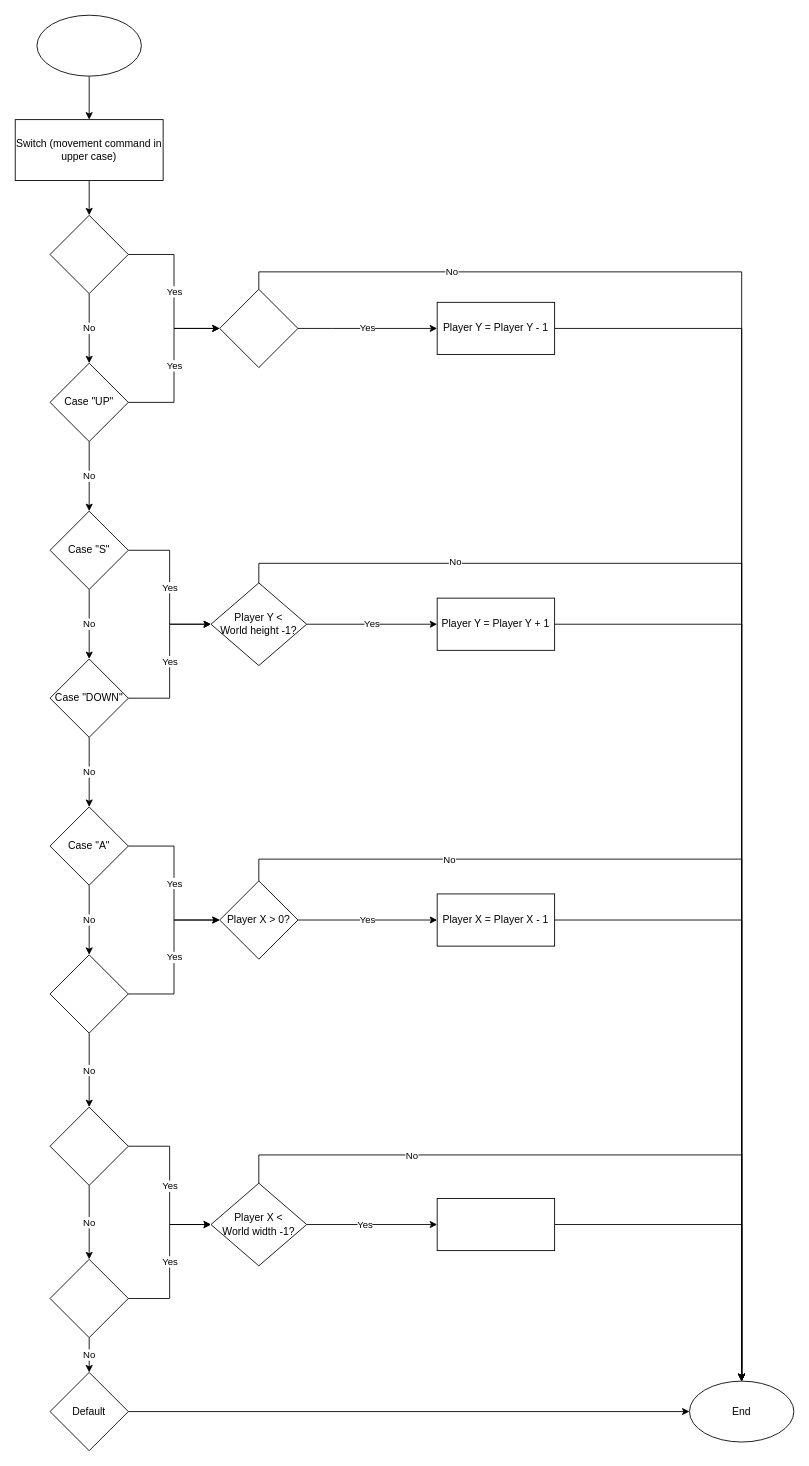
This 809x1466 diagram has some shape labels left out. The centre of each missing label's shape, as x and y in pixels:
Case "D": the point at 88,1145
Case "LEFT": the point at 88,993
Case "RIGHT": the point at 88,1298
Case "W": the point at 88,254
Move Player: the point at 88,45
Player X = Player X + 1: the point at 495,1224
Player Y > 0?: the point at 258,328
